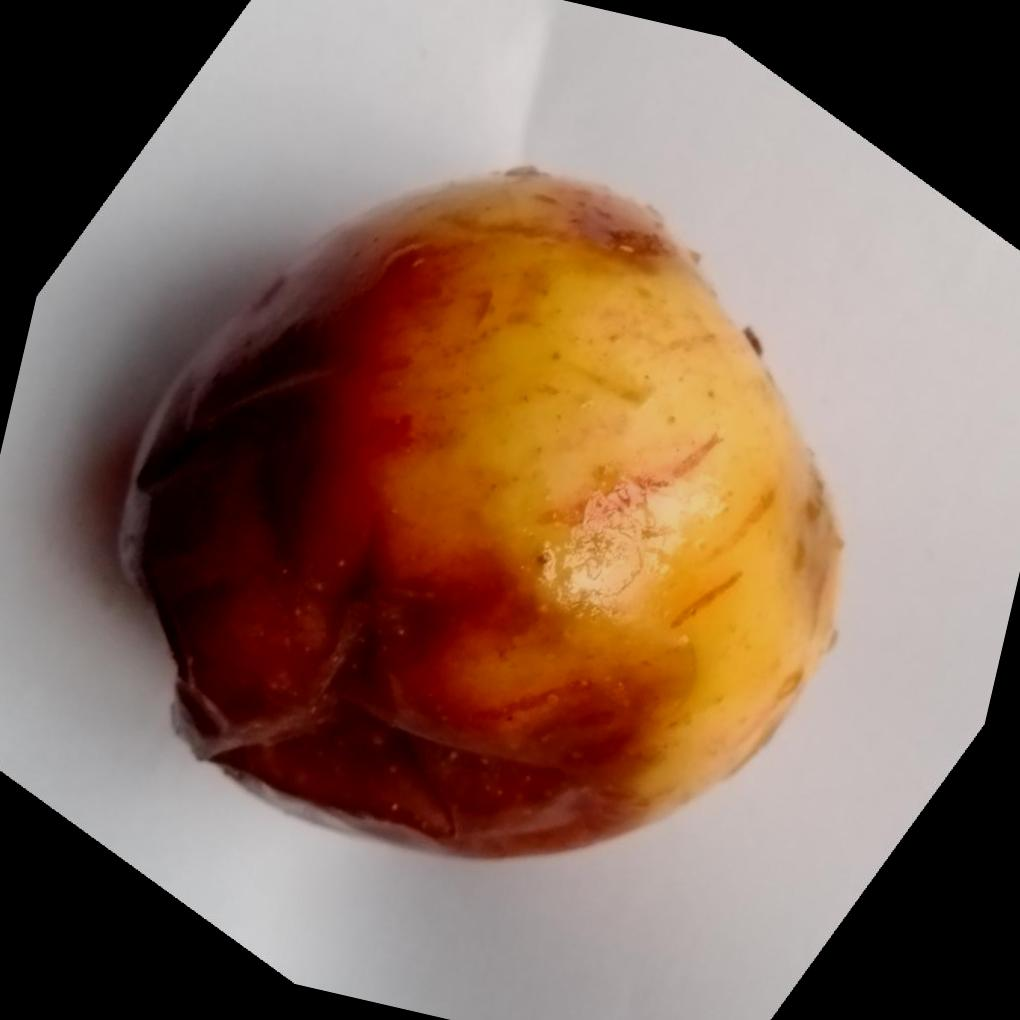FreshOrange: (119, 165, 847, 863)
